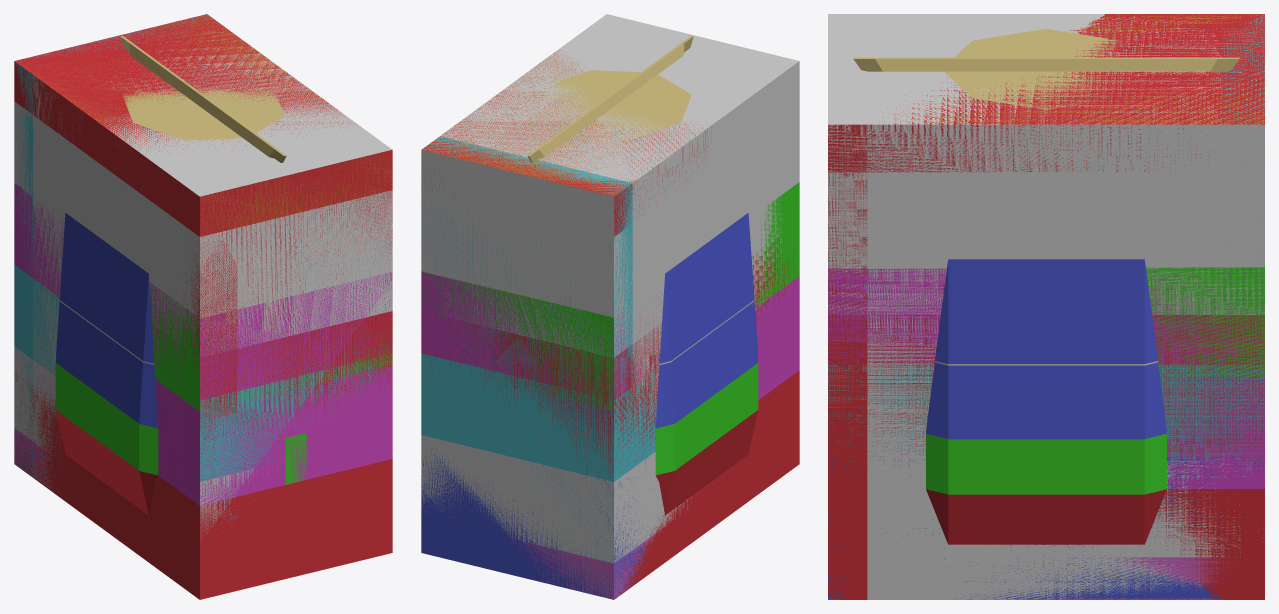
File: Food.fbx
The picture shows the model from 3 angles, left to right: view 1: azimuth 30°, elevation 25°; view 2: azimuth 150°, elevation 25°; view 3: azimuth 270°, elevation 25°; orthographic projection. The views are drawn at different scales.
Visible parts, largest first — view 1: Food Box 1, Food Box 4, Food Box 2, Food Box 3, Food Bag 5, Food Bag 6, Food Cylinder 8; view 2: Food Box 4, Food Box 1, Food Box 3, Food Box 2, Food Bag 5, Food Bag 6, Food Cylinder 8; view 3: Food Box 4, Food Box 1, Food Box 3, Food Box 2, Food Bag 5, Food Bag 6, Food Cylinder 8.
Part boxes in pixels (<box>): Food Box 1: <box>14,14,392,540</box>; Food Box 4: <box>14,100,392,599</box>; Food Box 2: <box>14,14,392,540</box>; Food Box 3: <box>14,14,392,503</box>; Food Bag 5: <box>55,35,286,428</box>; Food Bag 6: <box>55,363,306,515</box>; Food Cylinder 8: <box>123,86,284,140</box>; Food Box 4: <box>421,14,799,597</box>; Food Box 1: <box>421,50,767,599</box>; Food Box 3: <box>421,50,783,599</box>; Food Box 2: <box>421,53,798,599</box>; Food Bag 5: <box>527,35,758,428</box>; Food Bag 6: <box>655,363,758,515</box>; Food Cylinder 8: <box>545,70,691,140</box>; Food Box 4: <box>828,14,1264,599</box>; Food Box 1: <box>828,14,1264,599</box>; Food Box 3: <box>828,14,1264,599</box>; Food Box 2: <box>828,14,1264,599</box>; Food Bag 5: <box>853,57,1239,439</box>; Food Bag 6: <box>926,434,1166,544</box>; Food Cylinder 8: <box>944,28,1126,109</box>.
Size of the model in its own units: 66 by 126 by 100.
